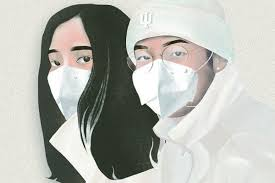mask: (130, 34, 210, 123), (42, 27, 105, 122)
